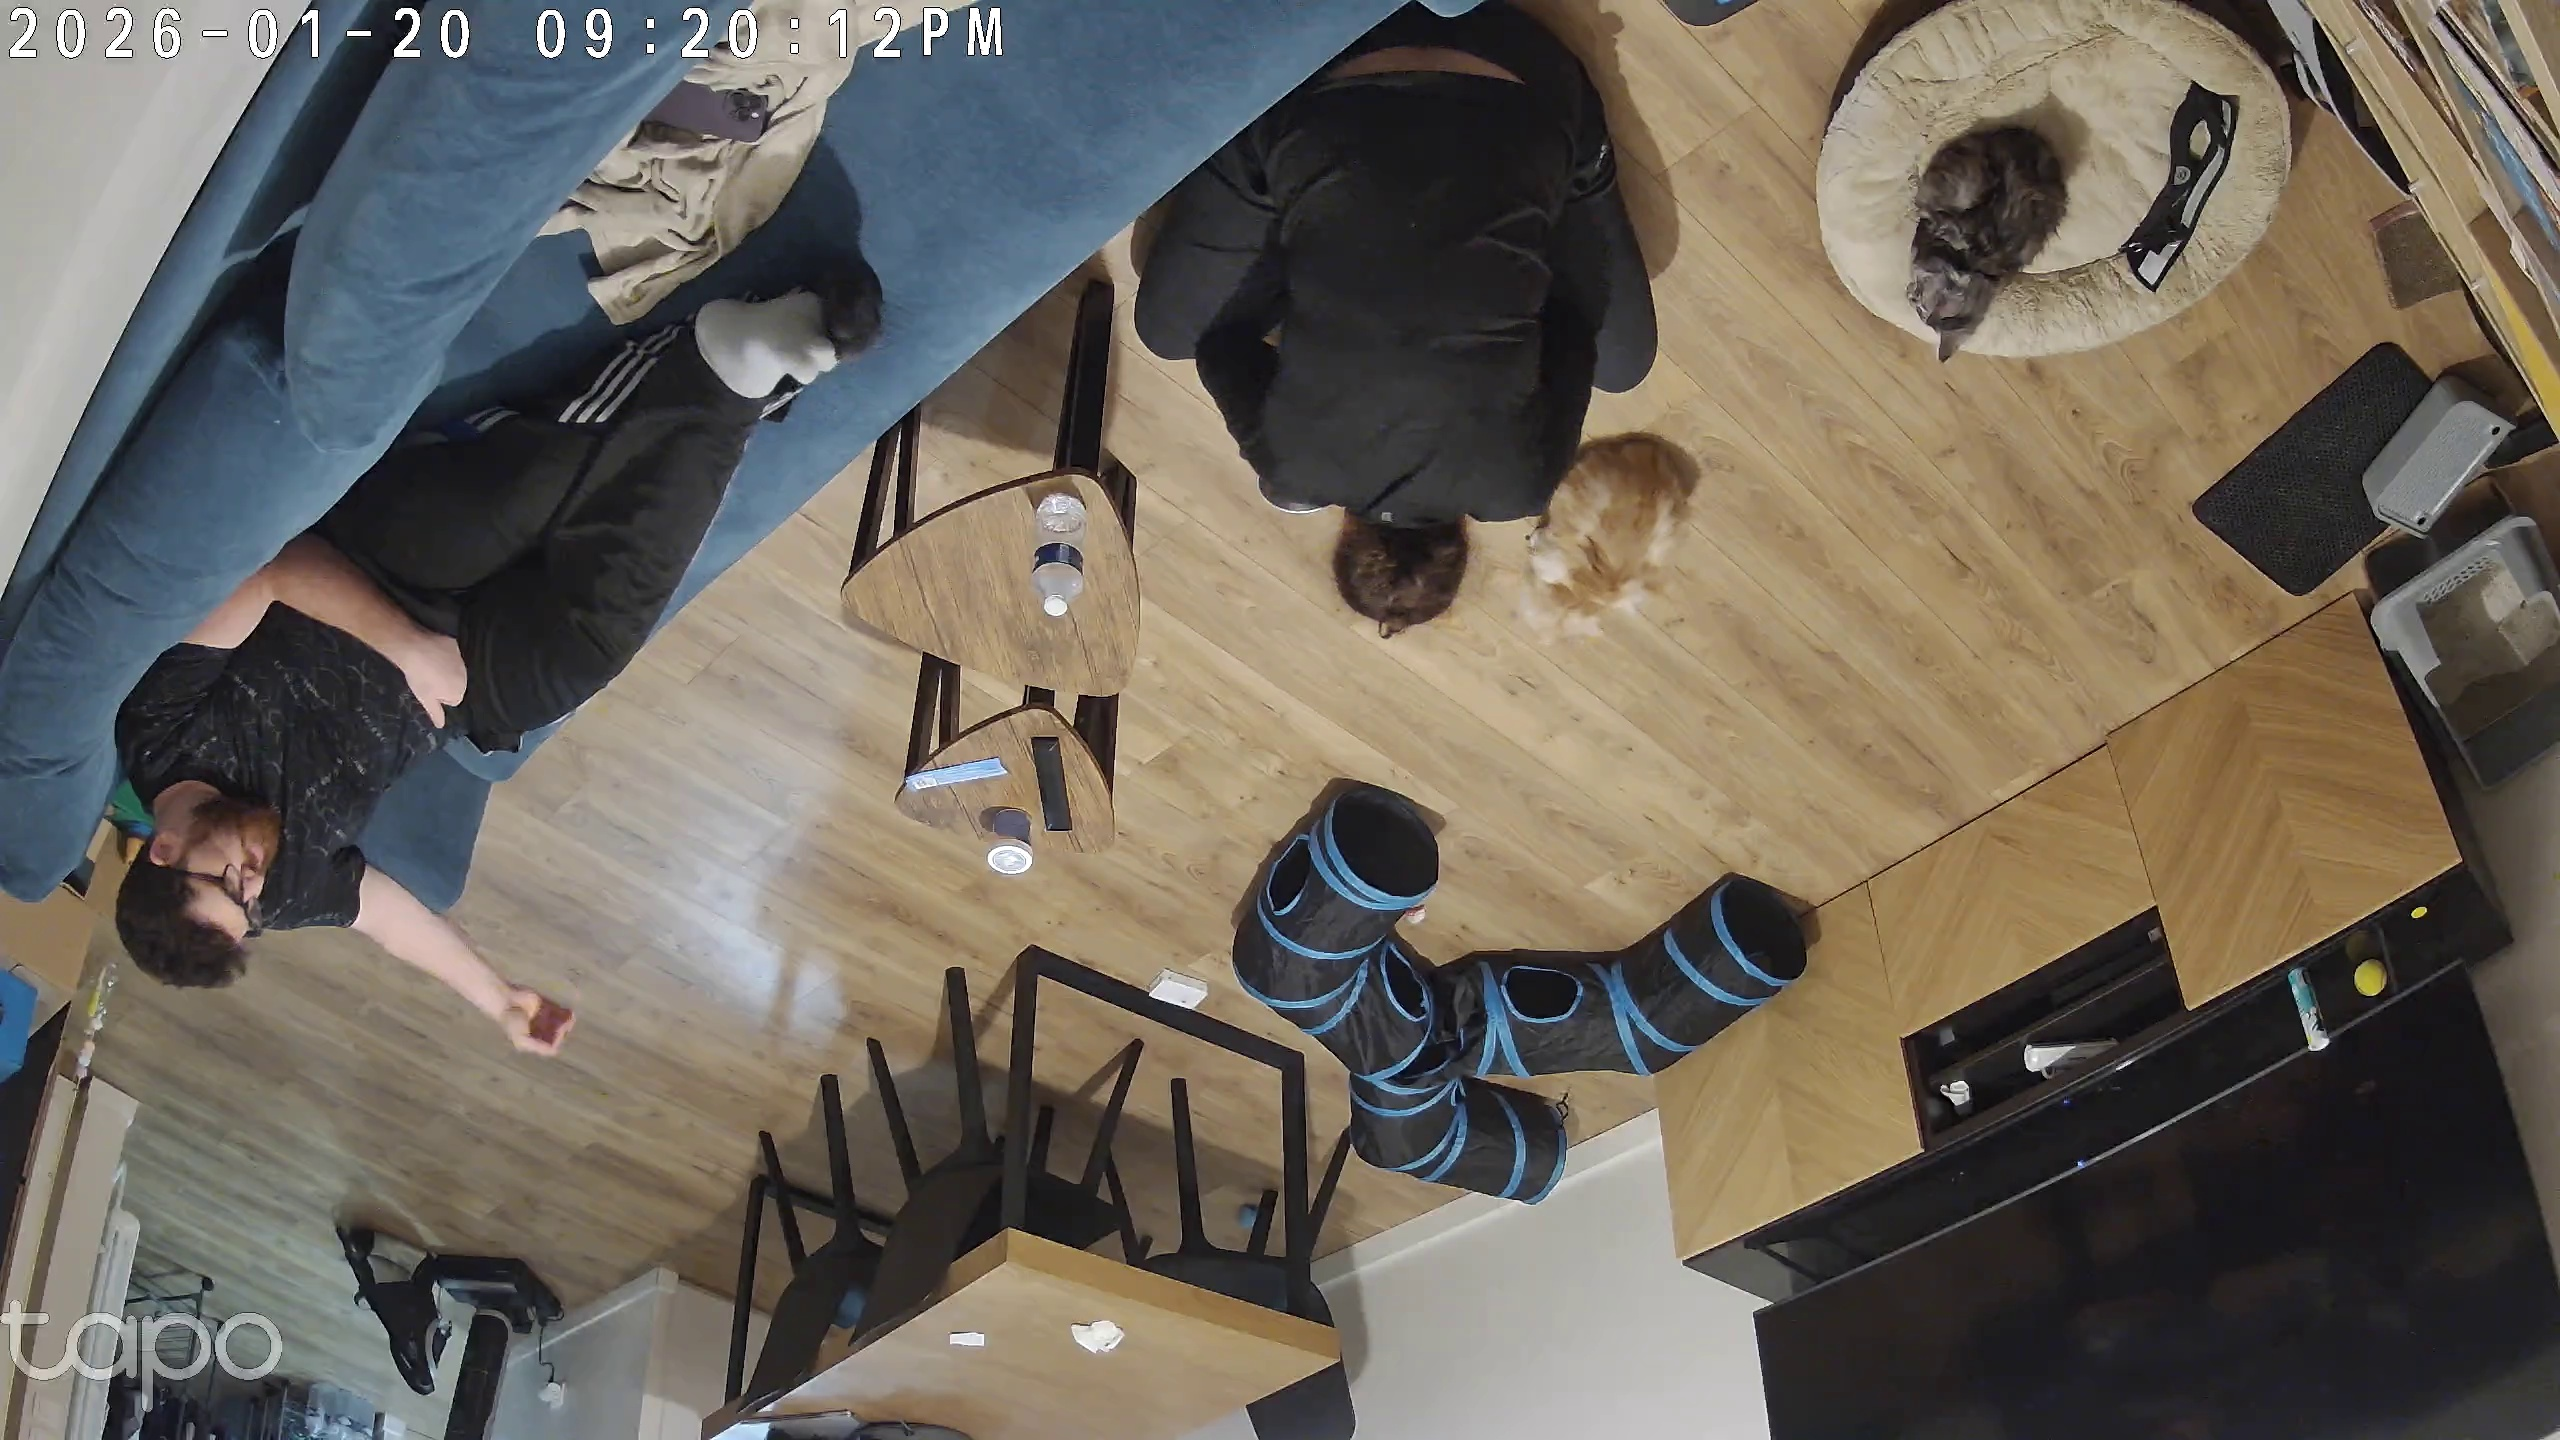Nala: (1901, 120, 2069, 364)
Simba: (1523, 427, 1704, 638)
